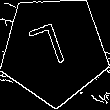L_S: (32, 21, 77, 79)
